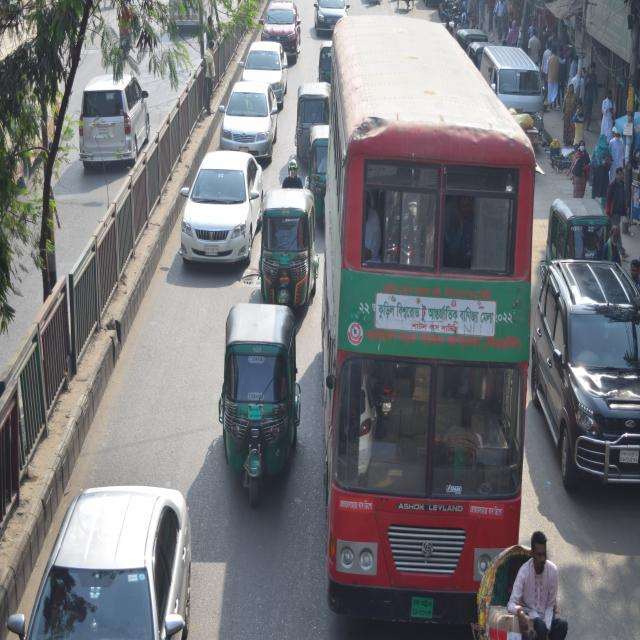bus: (319, 16, 527, 634)
car: (13, 486, 197, 640), (531, 262, 640, 501), (177, 146, 263, 276), (78, 65, 154, 172), (221, 80, 278, 151), (241, 37, 288, 91), (266, 2, 300, 48), (308, 0, 346, 26)
microbus: (477, 38, 550, 143)
